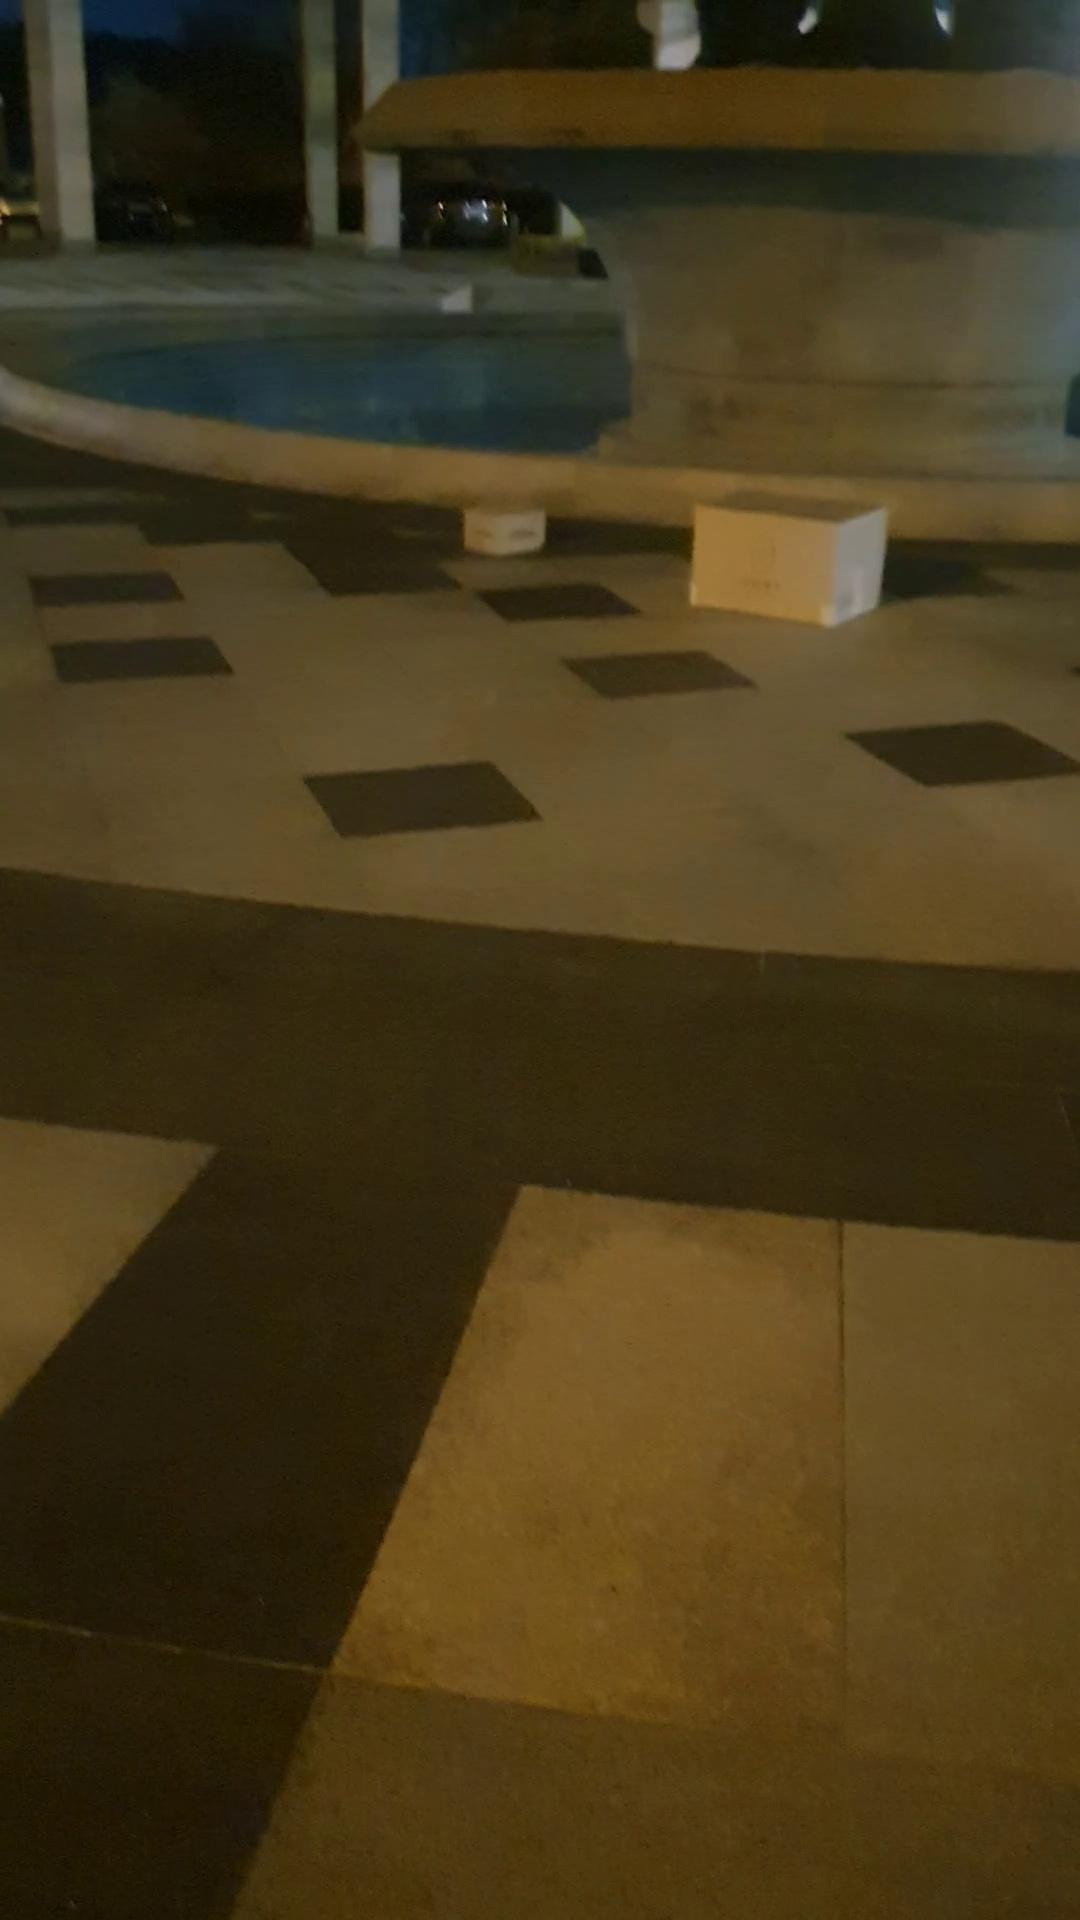Box: (671, 473, 882, 630), (446, 493, 541, 568)
